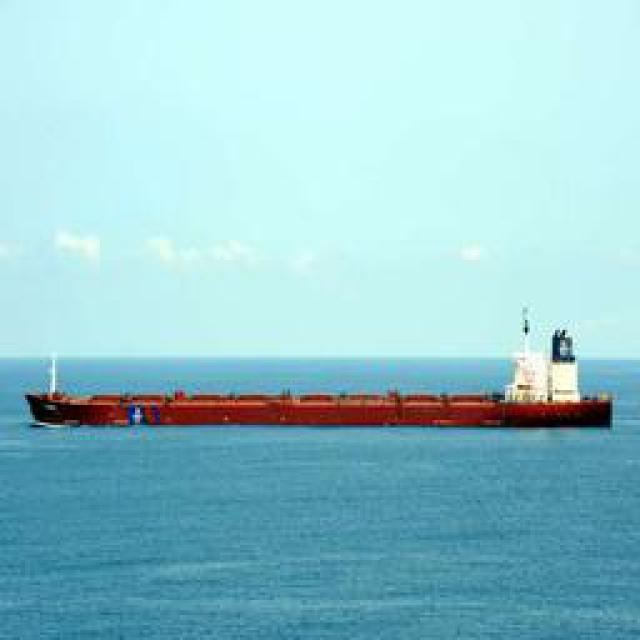Ship: (10, 389, 630, 432)
